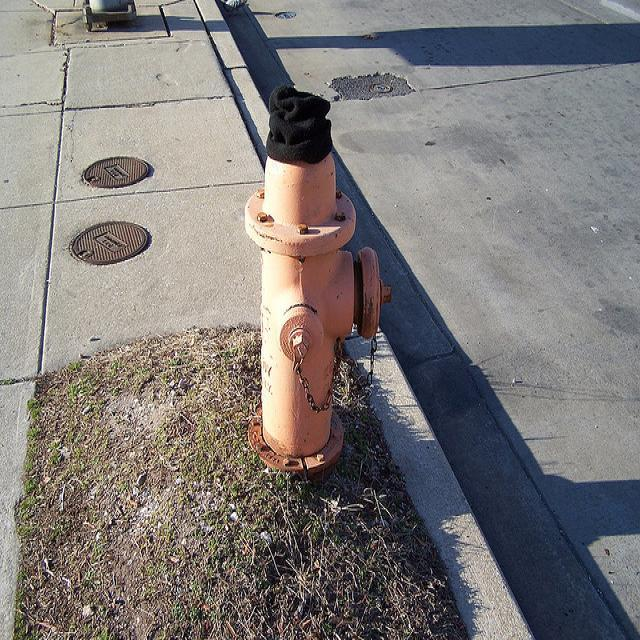fire_hydrant: (239, 70, 394, 490)
